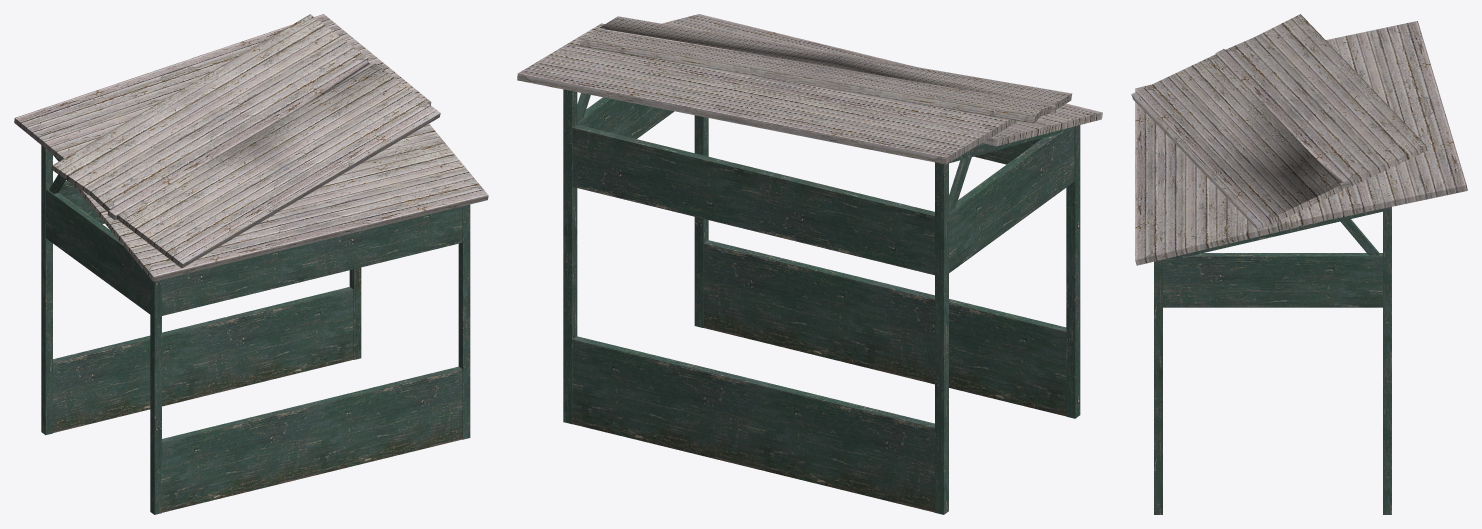
File: Prop_Crawl1.glb
The picture shows the model from 3 angles, left to right: view 1: azimuth 30°, elevation 25°; view 2: azimuth 150°, elevation 25°; view 3: azimuth 270°, elevation 25°; orthographic projection. The views are drawn at different scales.
Visible parts, largest first — view 1: xiutz_crawl1; view 2: xiutz_crawl1; view 3: xiutz_crawl1.
Part boxes in pixels (left/top/right/bottom): xiutz_crawl1: left=14, top=14, right=488, bottom=514; xiutz_crawl1: left=517, top=14, right=1102, bottom=514; xiutz_crawl1: left=1131, top=14, right=1467, bottom=514.
Bounding box in the file's own units: 6.71 × 5.84 × 5.03.
Materials: 1 (1 with a texture image).
